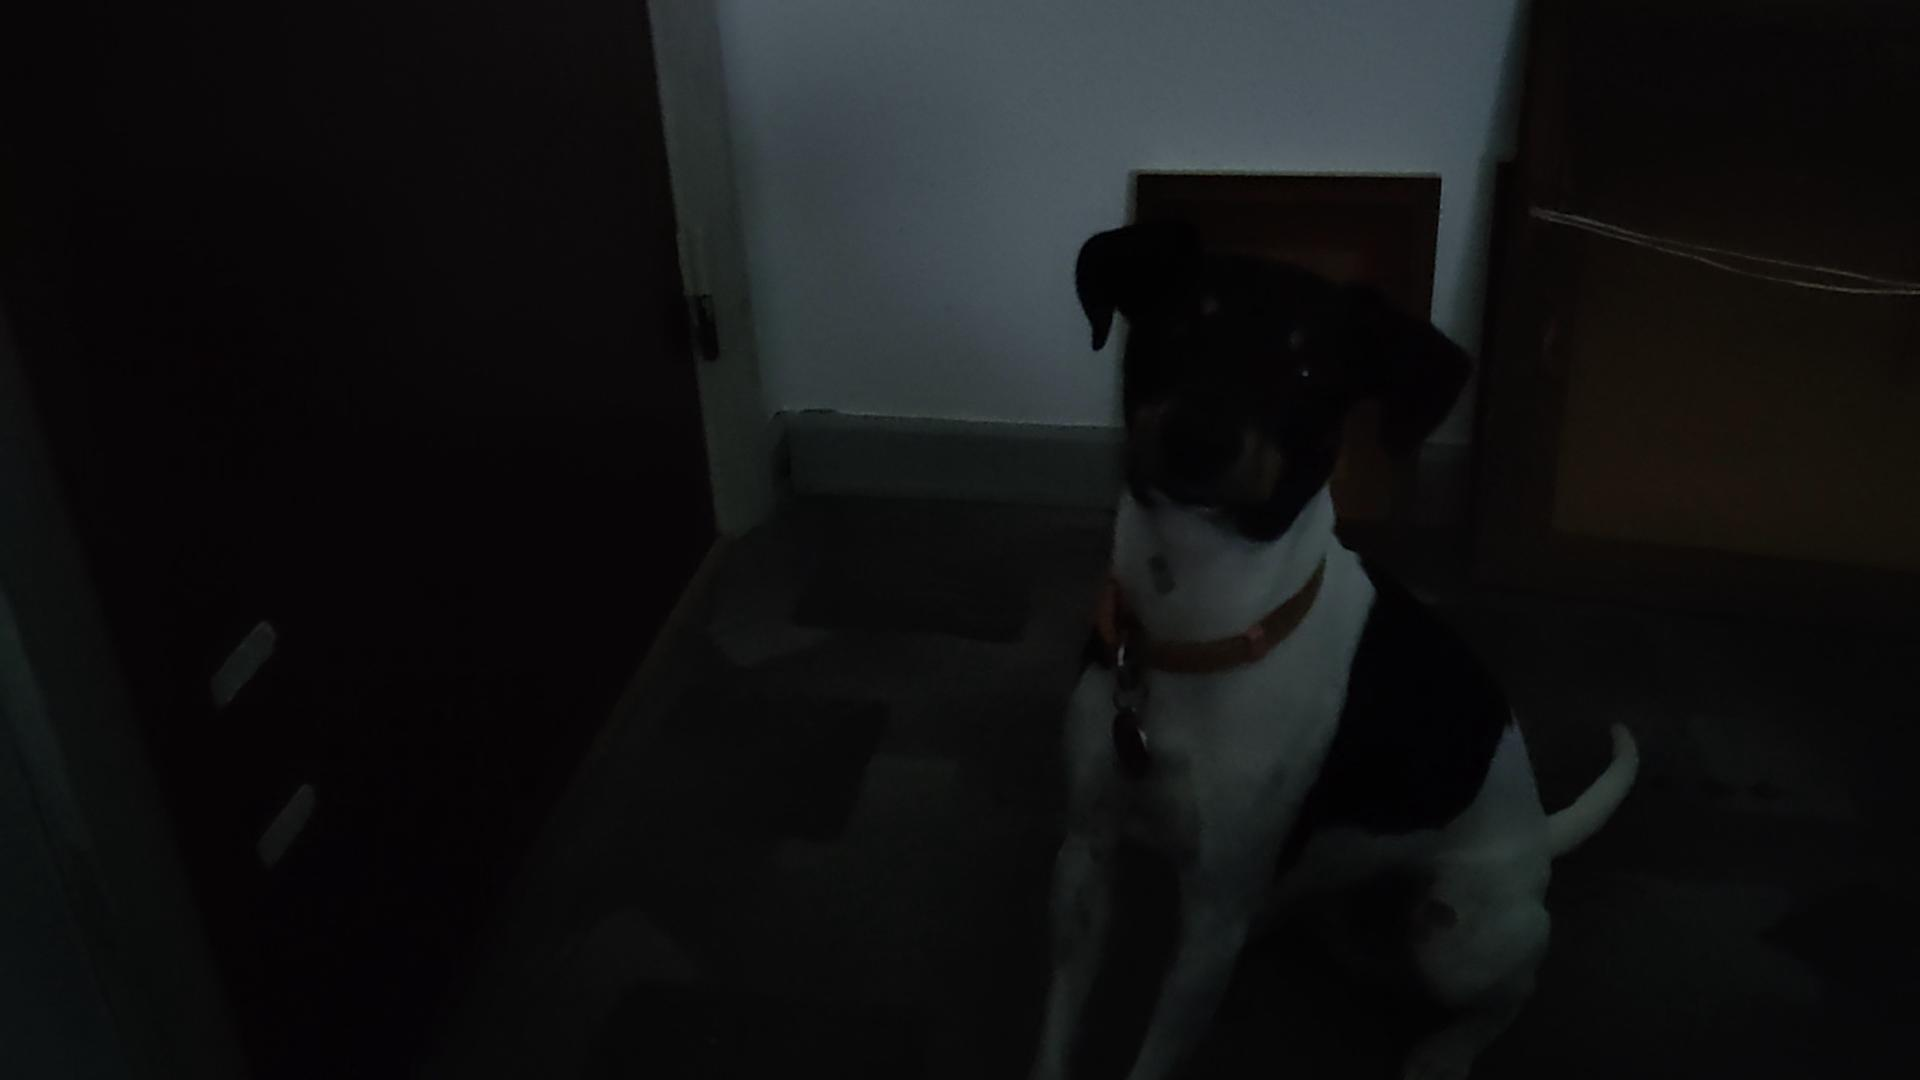Dog: (1031, 204, 1647, 1079)
